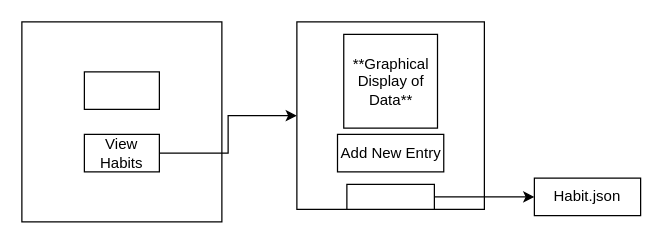
Image size: 663x244. Some labels were removed from this diagram. The shapes that lost their labels are listed below. From the top down, each one's centre as x and y in pixels, then its label:
At (121,90): "Add new Habit".
At (390,196): "Export Data".
